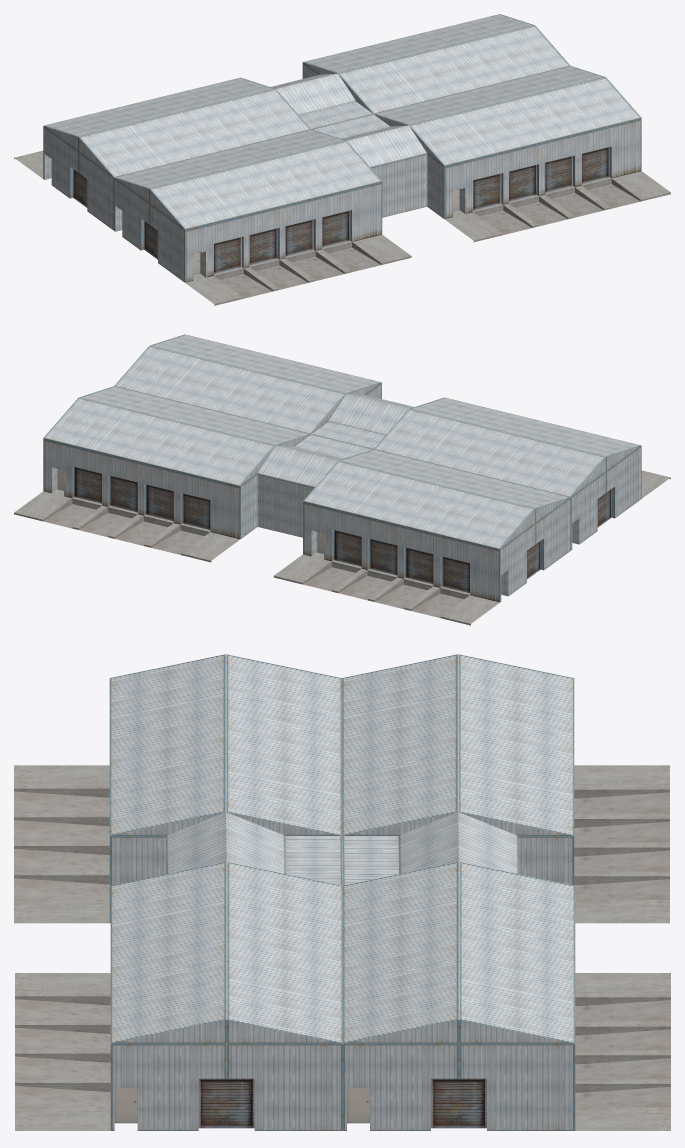
File: Factory.fbx
The picture shows the model from 3 angles, top to bottom: view 1: azimuth 30°, elevation 25°; view 2: azimuth 150°, elevation 25°; view 3: azimuth 270°, elevation 25°; orthographic projection. The views are drawn at different scales.
Visible parts, largest first — view 1: Factory; view 2: Factory; view 3: Factory.
Part boxes in pixels (<box>): Factory: <box>14,14,670,305</box>; Factory: <box>14,334,670,625</box>; Factory: <box>14,654,670,1130</box>.
Size of the model in its own units: 587 by 90.17 by 446.
Materials: 1 (1 with a texture image).
